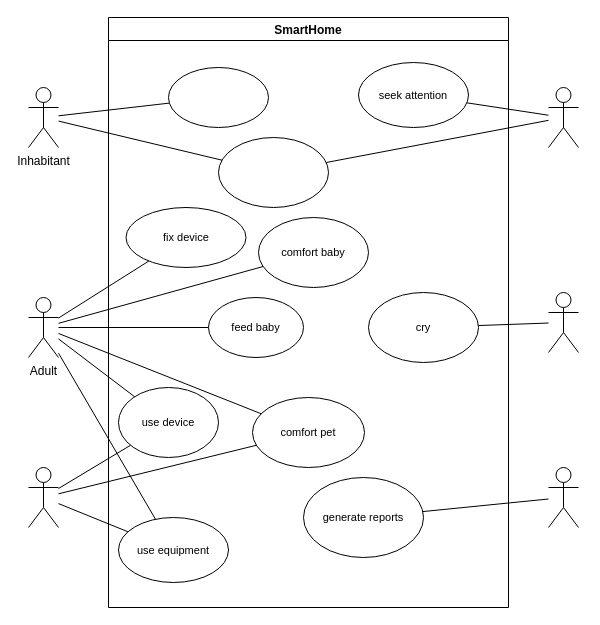
Some shapes in this 600 by 625 pixel diagram are drawn without their labels. Here are the shapes that lost their labels. From the top down, the centre of each, then its label:
(x=218, y=97): progress task
(x=563, y=117): Animal
(x=273, y=172): move to another room
(x=563, y=322): Baby
(x=43, y=497): Child
(x=563, y=497): system
